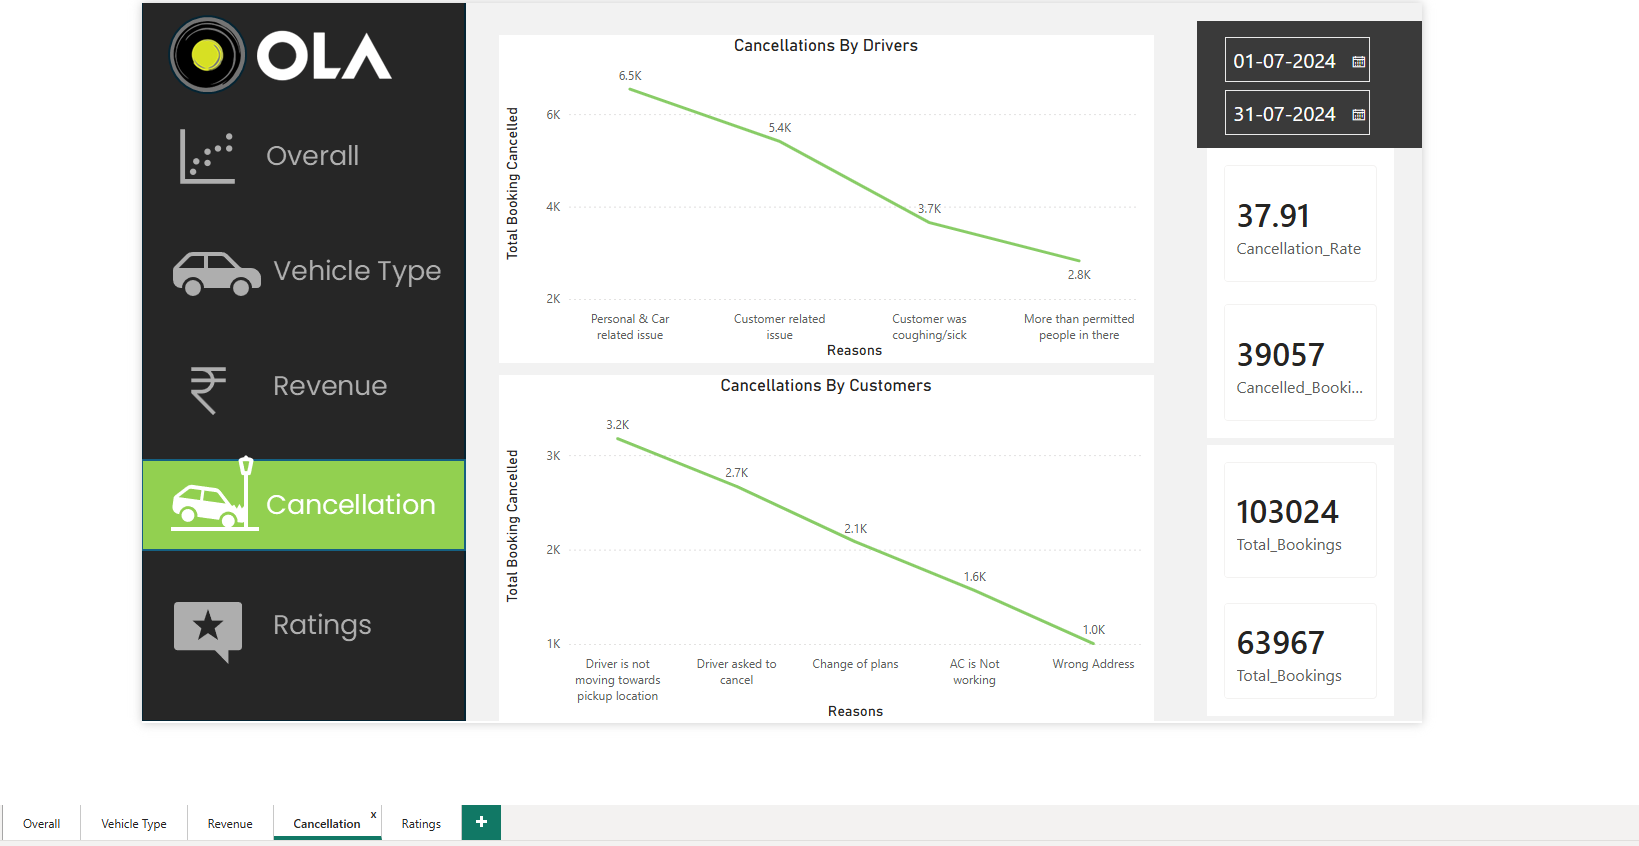

What the dashboard file says about the page in this screenshot:
{"tool":"powerbi","page":{"name":"Cancellation","canvas":[1280,720],"ordinal":3},"visuals":[{"type":"actionButton","box":[0,220.7,324.1,91.8],"z":0},{"type":"actionButton","box":[0,312.5,324.1,119.6],"z":1000},{"type":"actionButton","box":[0,116.2,324.1,104.5],"z":2000},{"type":"actionButton","box":[0,549.4,324.1,131.3],"z":3000},{"type":"lineChart","title":"Cancellations By Drivers","fields":{"Y":["CountNonNull(Bookings-100000-Rows.Booking_ID)"],"Category":["Bookings-100000-Rows.Canceled_Rides_by_Driver"]},"box":[357.1,31.5,654.8,328.3],"z":4000},{"type":"lineChart","title":"Cancellations By Customers","fields":{"Y":["CountNonNull(Bookings-100000-Rows.Booking_ID)"],"Category":["Bookings-100000-Rows.Canceled_Rides_by_Customer"]},"box":[357.1,371.9,654.8,348.8],"z":5000},{"type":"cardVisual","fields":{"Data":["Bookings-100000-Rows.Cancellation_Rate"]},"box":[1064.9,144.5,187.1,151.6],"z":5002},{"type":"cardVisual","fields":{"Data":["Bookings-100000-Rows.Cancelled_Bookings"]},"box":[1064.9,283.7,187.1,151.6],"z":5003},{"type":"cardVisual","fields":{"Data":["Bookings-100000-Rows.Total_Bookings"]},"box":[1064.9,441.6,187.1,150.7],"z":5004},{"type":"cardVisual","fields":{"Data":["Bookings-100000-Rows.Total_Bookings"]},"box":[1064.9,583.4,187.1,129.5],"z":5005},{"type":"slicer","title":"Date","fields":{"Values":["Bookings-100000-Rows.Date"]},"box":[1055.2,17.7,225.2,126.8],"z":5006}]}

Visuals, with their boxes on the page's 1280x720 design canvas (x1, y1, x2, y2). These are canvas units, not pixel positions in the 1639x846 screenshot, which may show the page scaled, cropped or inside an application window:
actionButton: BBox(0, 221, 324, 312)
actionButton: BBox(0, 312, 324, 432)
actionButton: BBox(0, 116, 324, 221)
actionButton: BBox(0, 549, 324, 681)
"Cancellations By Drivers" lineChart: BBox(357, 32, 1012, 360)
"Cancellations By Customers" lineChart: BBox(357, 372, 1012, 721)
cardVisual - Bookings-100000-Rows.Cancellation_Rate: BBox(1065, 144, 1252, 296)
cardVisual - Bookings-100000-Rows.Cancelled_Bookings: BBox(1065, 284, 1252, 435)
cardVisual - Bookings-100000-Rows.Total_Bookings: BBox(1065, 442, 1252, 592)
cardVisual - Bookings-100000-Rows.Total_Bookings: BBox(1065, 583, 1252, 713)
"Date" slicer: BBox(1055, 18, 1280, 144)
